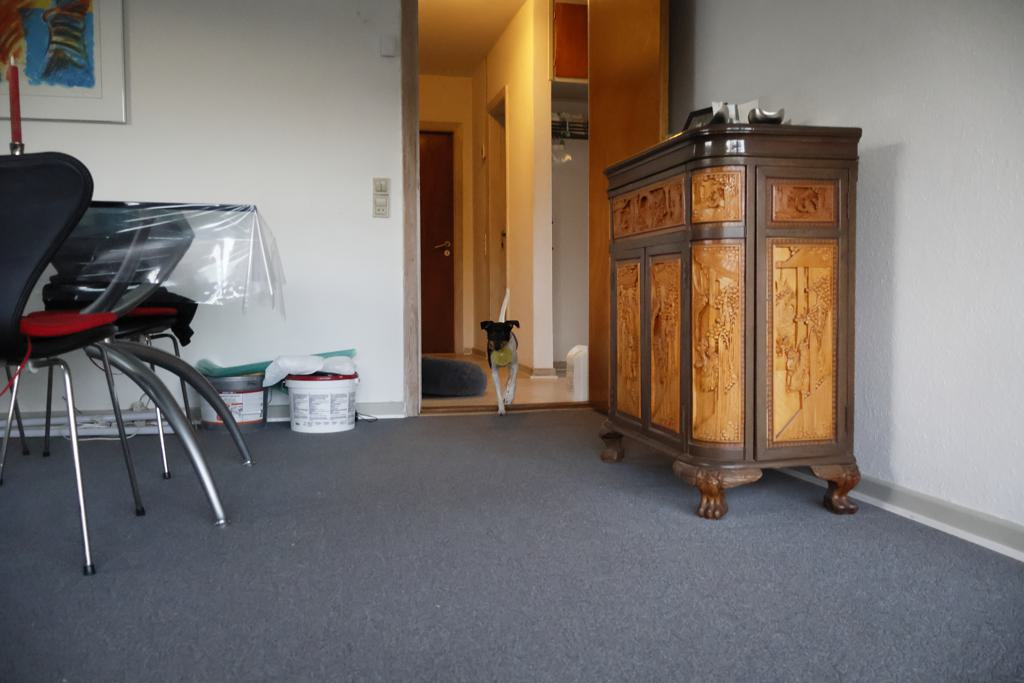Dog: (474, 285, 524, 421)
